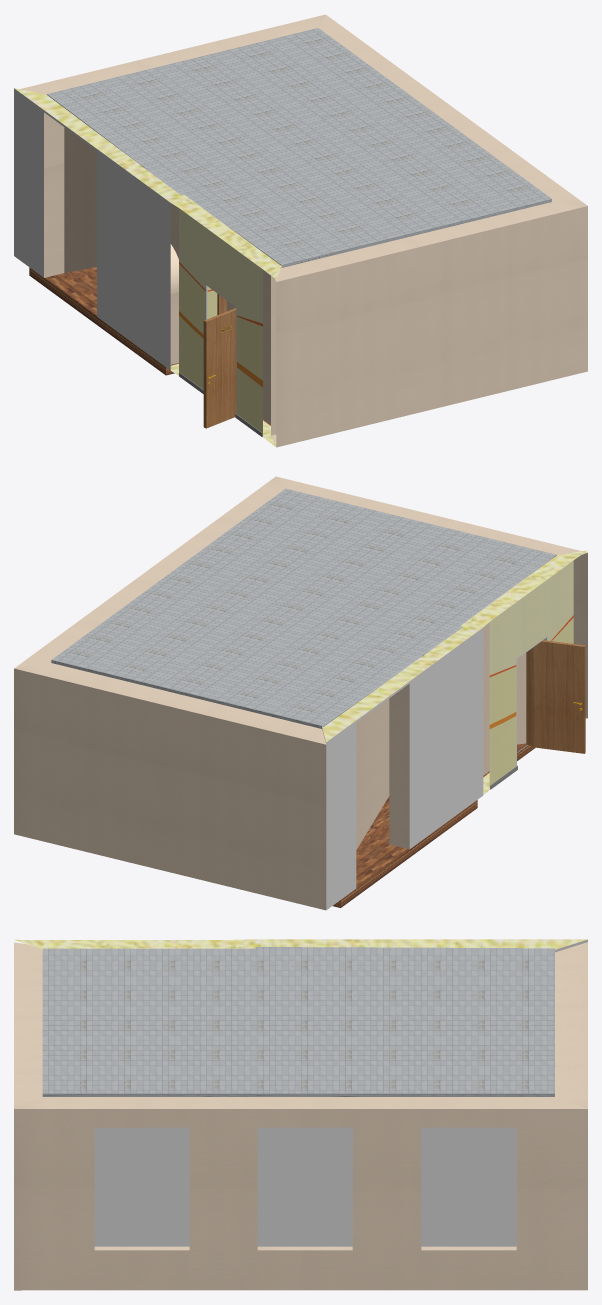
Rendered from cherkashevich_cabinet.fbx.
3 renders of one model, top to bottom at view 1: azimuth 30°, elevation 25°; view 2: azimuth 150°, elevation 25°; view 3: azimuth 270°, elevation 25°, orthographic. The views are drawn at different scales.
Visible parts, largest first — view 1: Cube.049, Plane.030, Plane.120, Plane.029, Sphere.001, Plane.028, Cube.014; view 2: Cube.049, Plane.028, Plane.120, Sphere.001, Plane.029, Plane.030, Cube.014, Cylinder.007; view 3: Plane.029, Cube.049, Plane.067, Plane.068, Plane.066, Plane.028, Plane.120, Plane.030, Куб.024, Куб.021, Куб.020.
Part boxes in pixels (<box>): Cube.049: <box>46,28,551,267</box>; Plane.030: <box>271,202,587,447</box>; Plane.120: <box>14,88,281,446</box>; Plane.029: <box>320,15,587,205</box>; Sphere.001: <box>203,308,236,428</box>; Plane.028: <box>20,14,325,93</box>; Cube.014: <box>29,267,270,425</box>; Cube.049: <box>51,488,556,729</box>; Plane.028: <box>14,663,326,910</box>; Plane.120: <box>322,550,587,909</box>; Sphere.001: <box>533,640,585,753</box>; Plane.029: <box>14,476,284,668</box>; Plane.030: <box>276,476,587,718</box>; Cube.014: <box>333,743,535,907</box>; Cylinder.007: <box>526,647,533,745</box>; Plane.029: <box>14,1096,587,1290</box>; Cube.049: <box>42,947,554,1096</box>; Plane.067: <box>262,1131,347,1241</box>; Plane.068: <box>426,1131,511,1241</box>; Plane.066: <box>99,1131,183,1241</box>; Plane.028: <box>555,942,587,1108</box>; Plane.120: <box>14,939,587,952</box>; Plane.030: <box>14,942,42,1108</box>; Куб.024: <box>421,1127,516,1246</box>; Куб.021: <box>257,1127,352,1246</box>; Куб.020: <box>94,1127,189,1246</box>.
Size of the model in its own units: 384 by 188 by 502.
